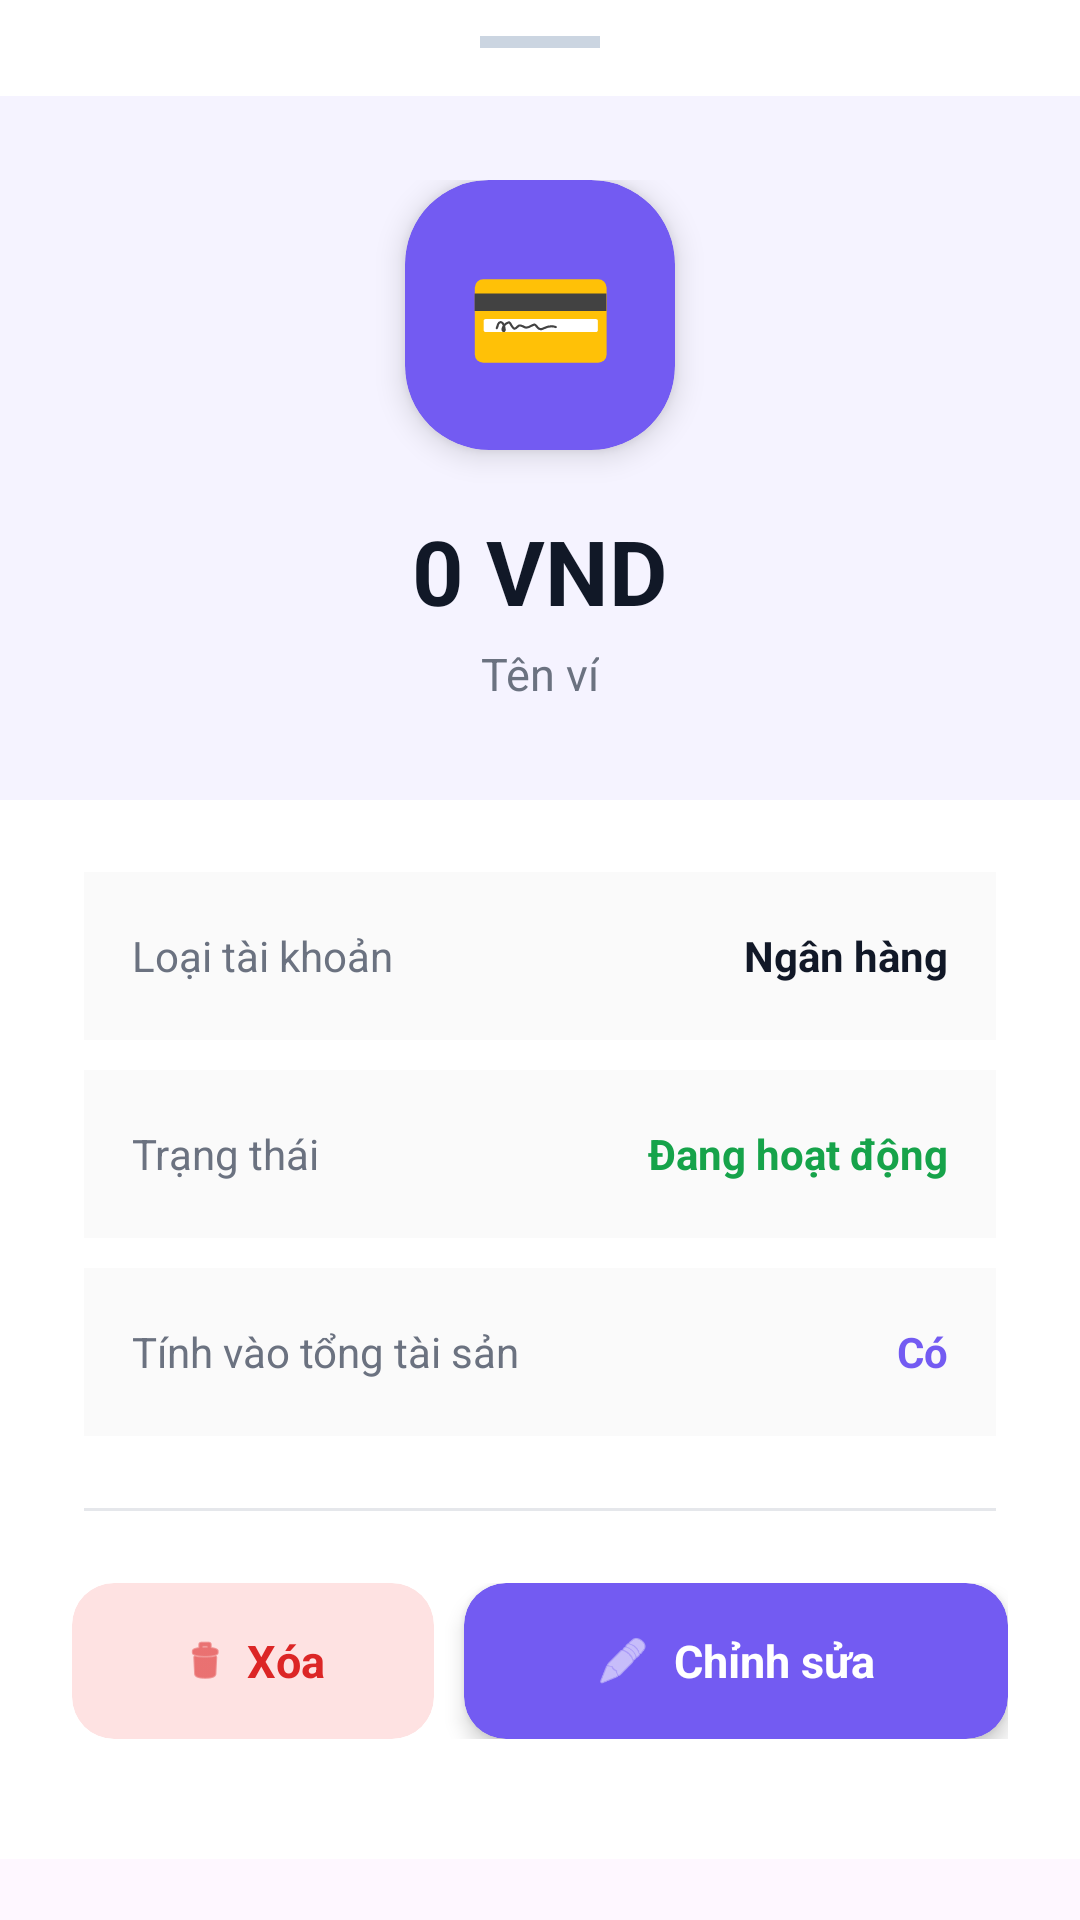

Icons on this 1080×1920 Android screen, each with the point to tap as [x,y]:
delete: [205,1660]
edit: [623,1660]
